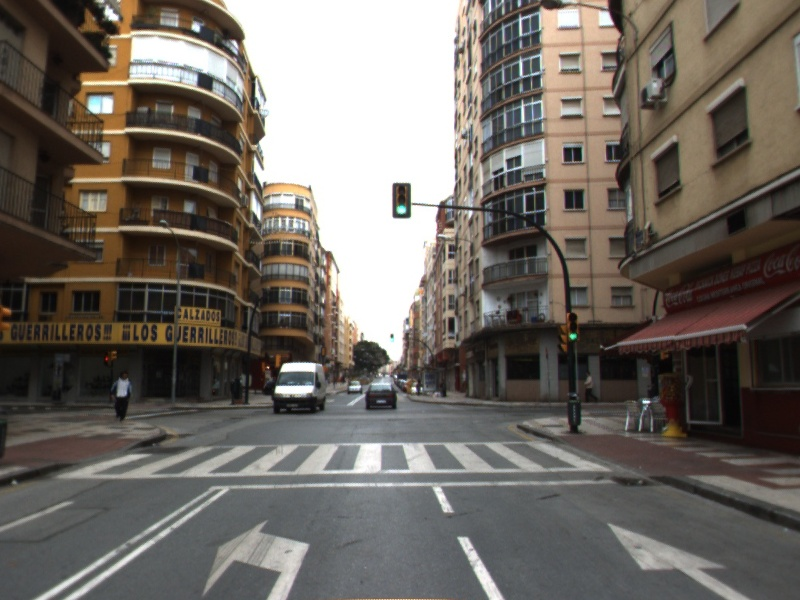LEFT: (200, 518, 312, 600)
STRAIGHT: (605, 521, 754, 600)
